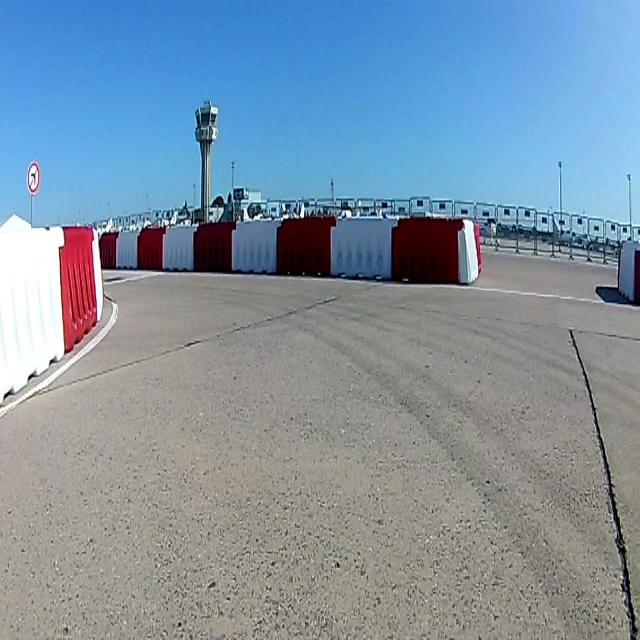soladonulmez: (26, 162, 40, 193)
